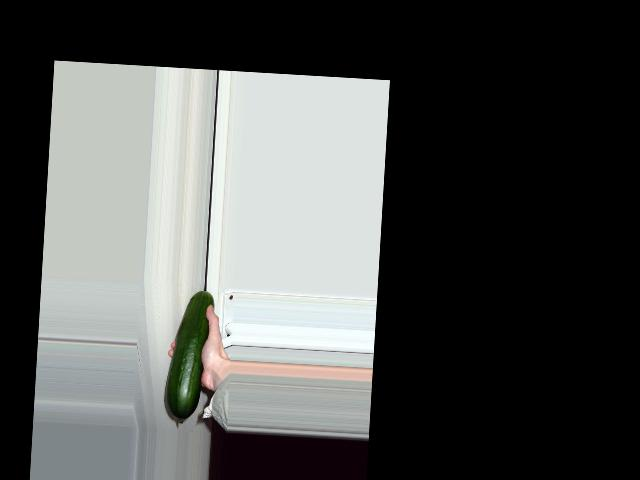cucumber: (162, 288, 214, 424)
